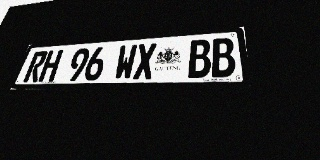6: (83, 46, 108, 81)
9: (65, 48, 91, 81)
B: (211, 37, 236, 77), (188, 39, 211, 78)
H: (38, 50, 63, 82)
R: (23, 51, 49, 82)
W: (113, 44, 138, 80)
X: (133, 43, 157, 79)
